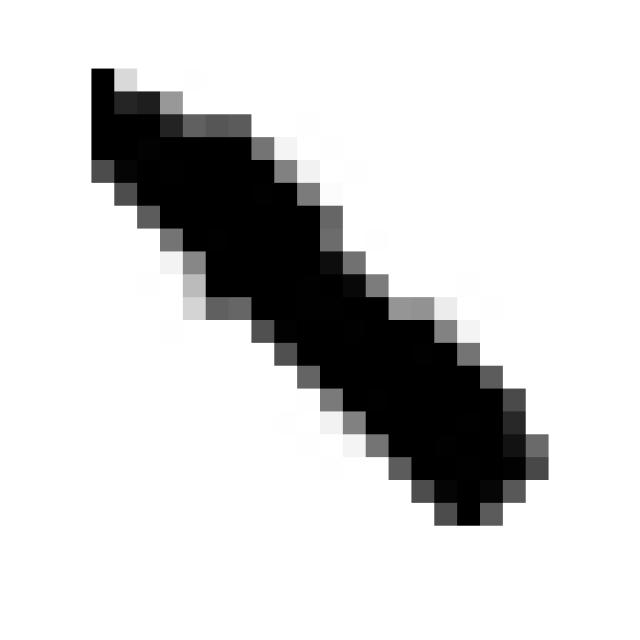0 -zero-: (75, 53, 563, 544)
